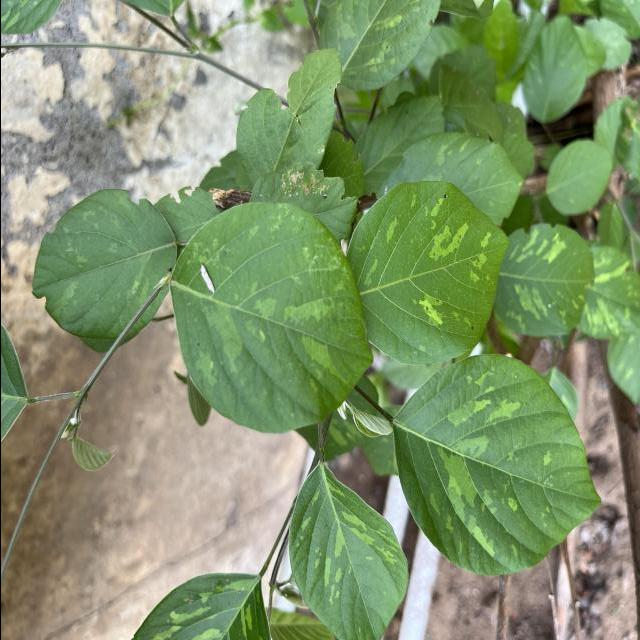Desmodium gangeticum: (391, 350, 603, 579), (343, 176, 511, 370), (286, 463, 410, 640)
